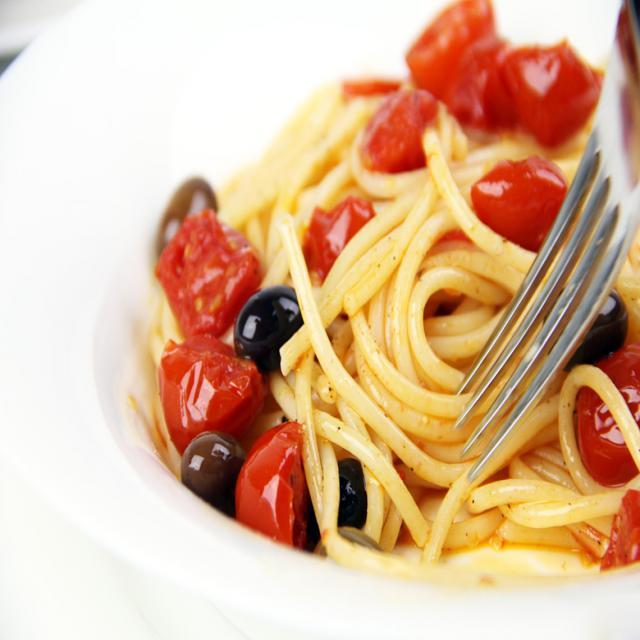Oil pasta: (159, 26, 561, 585)
